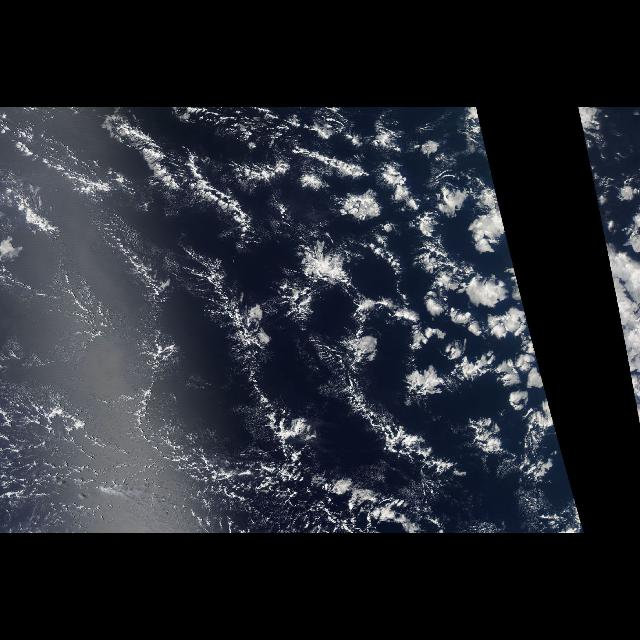Fish: (7, 112, 287, 490)
Flower: (218, 112, 504, 532)
